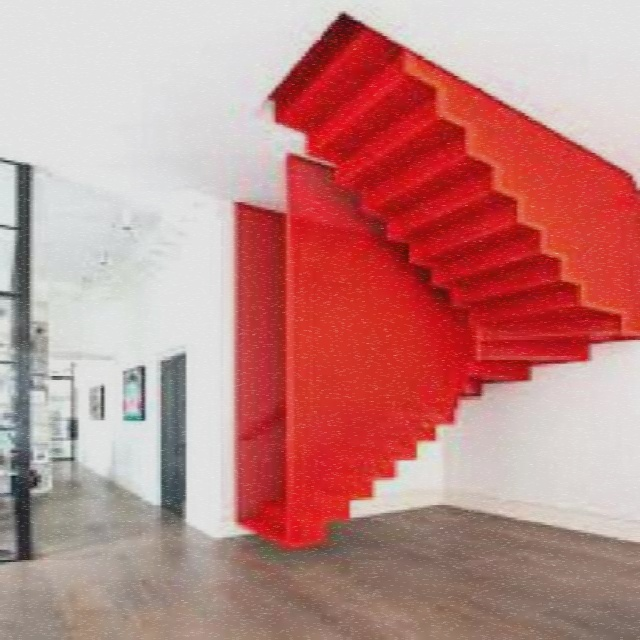stair: (223, 21, 637, 551)
